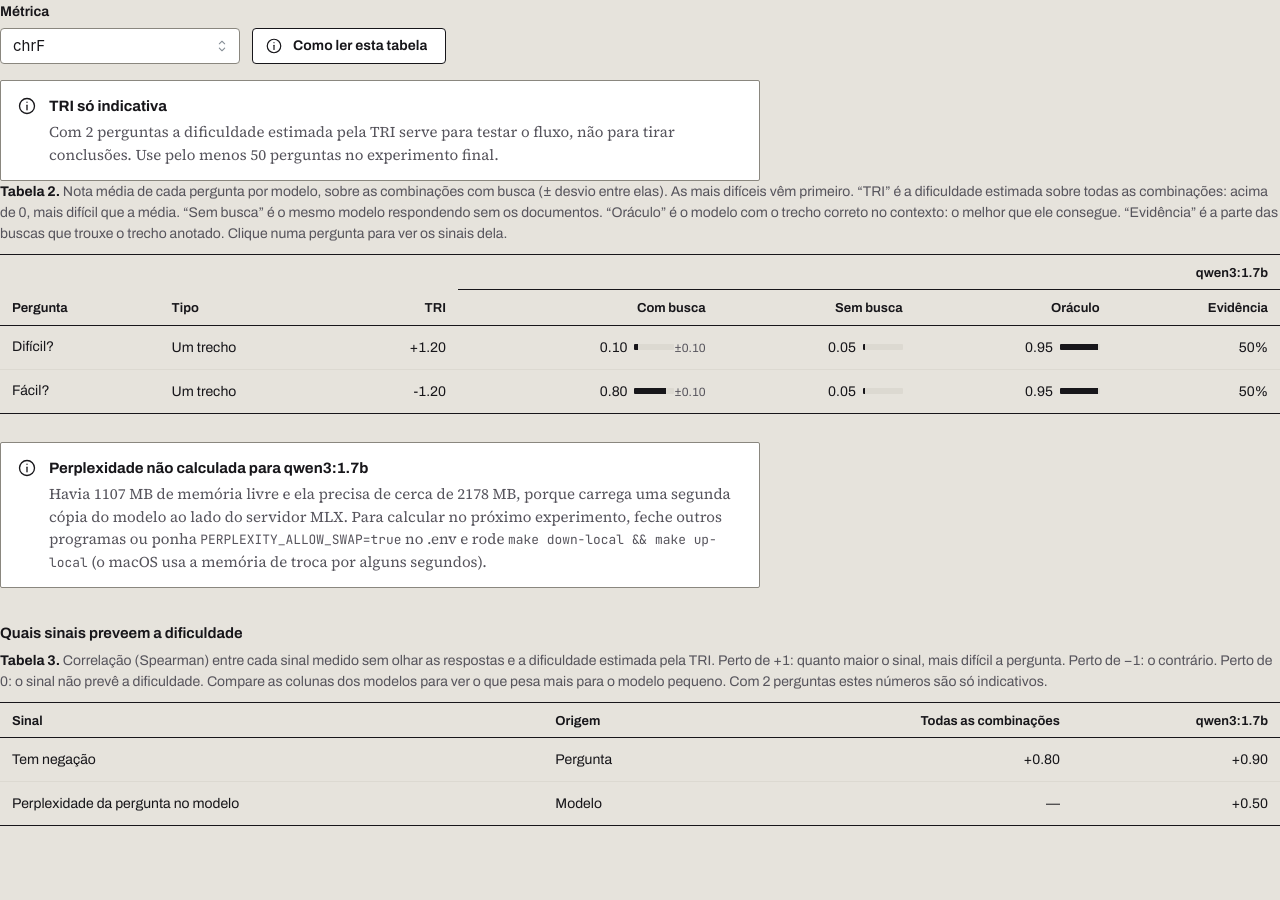
Test: DifficultyPanel › explains how to read the table in a pop-up
The width and height of the screenshot is (1280, 900).
Click the button "Como ler esta tabela": point(349, 46) [252,28,446,64]
(page scrolled)
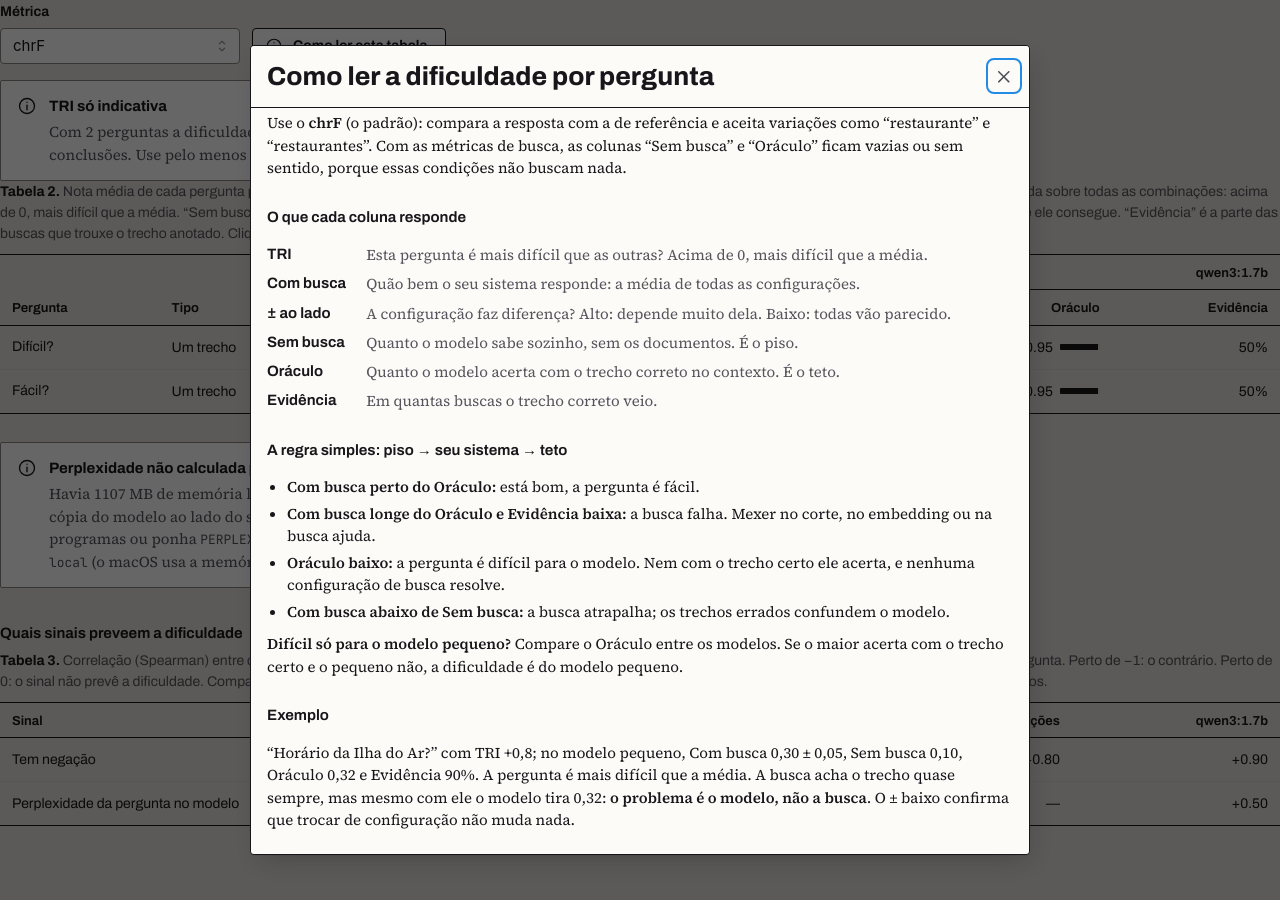
Result: the heading "Como ler a dificuldade por pergunta" is shown at [267,62,714,91]
Result: the heading "A regra simples: piso → seu sistema → teto" is shown at [267,442,567,458]
